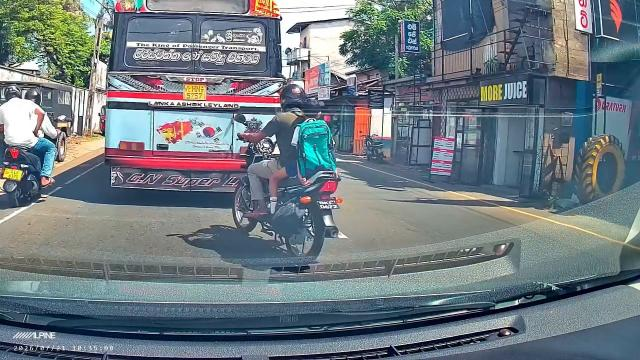no helmet: (301, 100, 326, 123), (310, 196, 341, 213)
